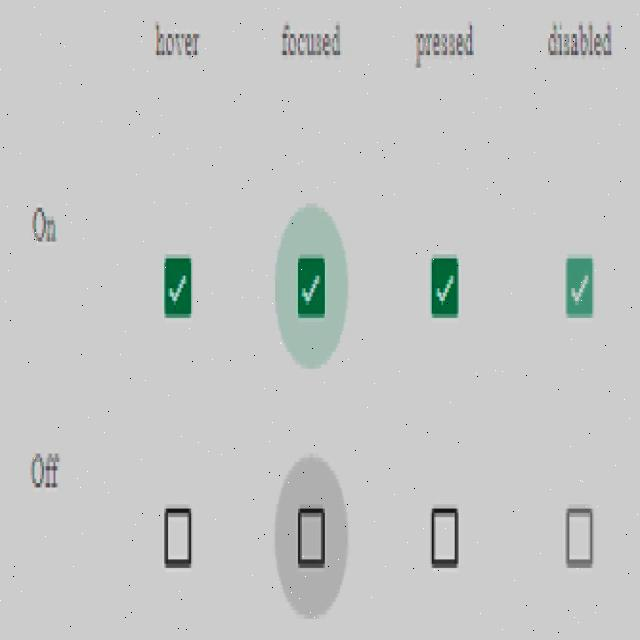checkbox: (564, 257, 594, 317), (297, 258, 326, 316), (164, 257, 192, 317), (566, 509, 594, 566), (432, 259, 459, 318), (298, 510, 326, 566), (432, 508, 458, 568), (166, 509, 192, 568)
label: (276, 16, 352, 67), (412, 17, 478, 75), (542, 15, 617, 66), (147, 17, 212, 68), (28, 443, 62, 498), (26, 198, 58, 250)
